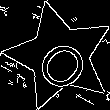O_NE: (25, 23, 94, 90)
